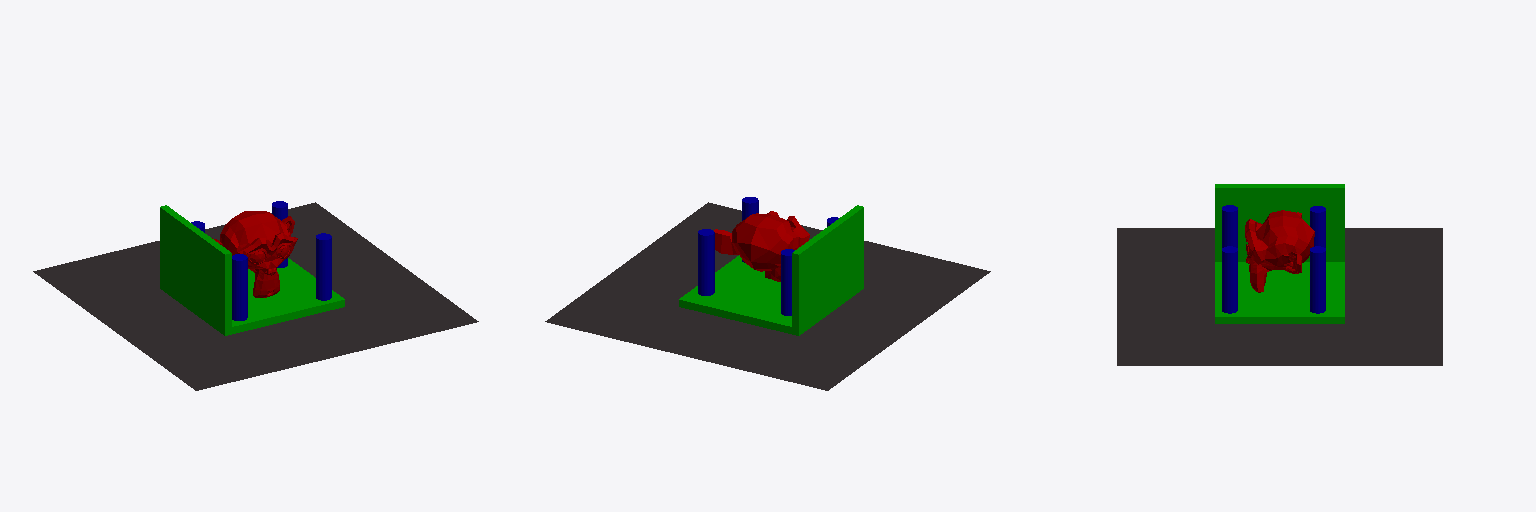
3 renders of one model, left to right at view 1: azimuth 30°, elevation 25°; view 2: azimuth 150°, elevation 25°; view 3: azimuth 270°, elevation 25°, orthographic.
Visible parts, largest first — view 1: Plane_Plane.001, Cube_Cube.001, Suzanne, Cylinder.002, Cylinder.003; view 2: Plane_Plane.001, Cube_Cube.001, Suzanne, Cylinder.001, Cylinder; view 3: Plane_Plane.001, Cube_Cube.001, Suzanne, Cylinder.002, Cylinder.001, Cylinder.003, Cylinder.
Boxes of the visible parts, x1=… form: Plane_Plane.001: x1=33, y1=202, x2=478, y2=390; Cube_Cube.001: x1=160, y1=205, x2=344, y2=335; Suzanne: x1=212, y1=211, x2=297, y2=297; Cylinder.002: x1=316, y1=233, x2=331, y2=300; Cylinder.003: x1=232, y1=254, x2=247, y2=320; Plane_Plane.001: x1=545, y1=202, x2=990, y2=390; Cube_Cube.001: x1=679, y1=205, x2=863, y2=335; Suzanne: x1=714, y1=211, x2=809, y2=281; Cylinder.001: x1=698, y1=229, x2=714, y2=295; Cylinder: x1=781, y1=249, x2=794, y2=315; Plane_Plane.001: x1=1117, y1=228, x2=1442, y2=365; Cube_Cube.001: x1=1215, y1=184, x2=1344, y2=323; Suzanne: x1=1245, y1=210, x2=1314, y2=292; Cylinder.002: x1=1222, y1=246, x2=1237, y2=313; Cylinder.001: x1=1310, y1=246, x2=1325, y2=313; Cylinder.003: x1=1222, y1=205, x2=1237, y2=247; Cylinder: x1=1310, y1=206, x2=1325, y2=247.
Size of the model in its own units: 40 by 11 by 40.